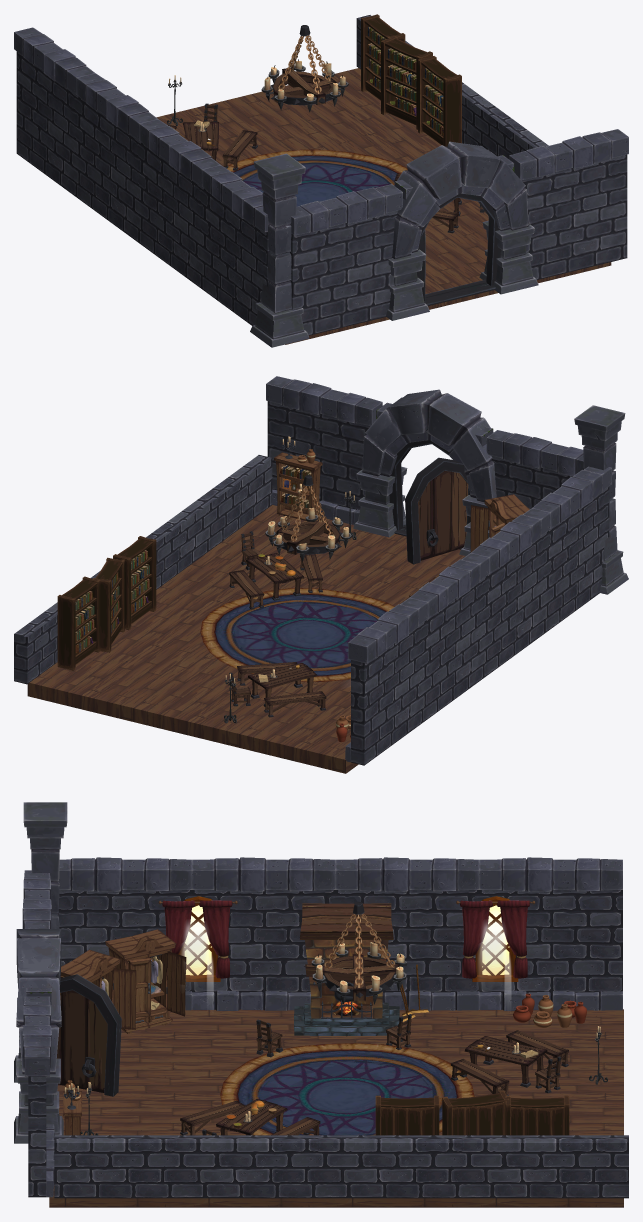
The model's file is ServantsRoom_Assets.gltf.
3 renders of one model, top to bottom at view 1: azimuth 30°, elevation 25°; view 2: azimuth 150°, elevation 25°; view 3: azimuth 270°, elevation 25°, orthographic. The views are drawn at different scales.
Visible parts, largest first — view 1: P_MOD_Wall_01_E_straight_med (×6), P_MOD_WallCover_01_E_straight (1) (×6), P_MOD_Gateway_Arc_01, P_PROP_bookshelf_dungeon_02 (×3), P_PROP_rug_interior_07, P_MOD_Floor_02_E_straight_med (4), P_MOD_Floor_02_E_straight_med, P_MOD_Column_01_large, P_PROP_chandelier_dungeon_01, P_MOD_Floor_02_E_straight_med (1), P_MOD_Column_01_base (×2), P_MOD_Floor_02_E_straight_med (7) (+10 smaller); view 2: P_MOD_Wall_01_E_straight_med (×6), P_MOD_WallCover_01_E_straight (1) (×6), P_PROP_rug_interior_07, P_MOD_Gateway_Arc_01, P_MOD_Floor_02_E_straight_med, P_MOD_Floor_02_E_straight_med (4), P_PROP_bookshelf_dungeon_02 (×3), P_MOD_Floor_02_E_straight_med (8), MOD_Gateway_Door_01_med_02_door, P_MOD_Floor_02_E_straight_med (7), P_MOD_Floor_02_E_straight_med (1), P_MOD_Floor_02_E_straight_med (2) (+22 smaller); view 3: P_MOD_Wall_01_E_straight_med (×5), P_MOD_WallCover_01_E_straight (1) (×6), P_PROP_rug_interior_07, P_MOD_Wall_01_E_straight_small (2), P_MOD_Wall_01_E_straight_small, P_MOD_Wall_01_E_straight_small (1), P_MOD_Wall_01_E_straight_small (3), P_PROP_fireplace_interior, P_PROP_bookshelf_dungeon_02 (×3), P_MOD_WallTrim_01_E_straight (1) (×4), MOD_Gateway_Door_01_med_02_door, P_MOD_Floor_02_E_straight_med (7) (+33 smaller).
Boxes of the visible parts, left/top/right/bottom form: P_MOD_Wall_01_E_straight_med (×6): left=16, top=51, right=627, bottom=335; P_MOD_WallCover_01_E_straight (1) (×6): left=14, top=27, right=628, bottom=235; P_MOD_Gateway_Arc_01: left=392, top=141, right=528, bottom=258; P_PROP_bookshelf_dungeon_02 (×3): left=361, top=14, right=461, bottom=146; P_PROP_rug_interior_07: left=227, top=149, right=407, bottom=206; P_MOD_Floor_02_E_straight_med (4): left=156, top=94, right=313, bottom=163; P_MOD_Floor_02_E_straight_med: left=252, top=68, right=400, bottom=139; P_MOD_Column_01_large: left=261, top=181, right=298, bottom=313; P_PROP_chandelier_dungeon_01: left=261, top=25, right=348, bottom=112; P_MOD_Floor_02_E_straight_med (1): left=315, top=119, right=441, bottom=167; P_MOD_Column_01_base (×2): left=250, top=278, right=429, bottom=347; P_MOD_Floor_02_E_straight_med (7): left=425, top=232, right=497, bottom=309; P_MOD_Wall_01_E_straight_med (×6): left=267, top=401, right=609, bottom=765; P_MOD_WallCover_01_E_straight (1) (×6): left=266, top=376, right=611, bottom=663; P_PROP_rug_interior_07: left=200, top=588, right=394, bottom=681; P_MOD_Gateway_Arc_01: left=362, top=389, right=496, bottom=502; P_MOD_Floor_02_E_straight_med: left=27, top=643, right=194, bottom=721; P_MOD_Floor_02_E_straight_med (4): left=133, top=663, right=300, bottom=747; P_PROP_bookshelf_dungeon_02 (×3): left=57, top=536, right=156, bottom=670; P_MOD_Floor_02_E_straight_med (8): left=240, top=689, right=358, bottom=773; MOD_Gateway_Door_01_med_02_door: left=405, top=457, right=468, bottom=564; P_MOD_Floor_02_E_straight_med (7): left=320, top=533, right=465, bottom=595; P_MOD_Floor_02_E_straight_med (1): left=112, top=594, right=215, bottom=663; P_MOD_Floor_02_E_straight_med (2): left=156, top=548, right=308, bottom=608; P_MOD_Wall_01_E_straight_med (×5): left=28, top=889, right=622, bottom=1197; P_MOD_WallCover_01_E_straight (1) (×6): left=22, top=857, right=622, bottom=1076; P_PROP_rug_interior_07: left=220, top=1043, right=474, bottom=1135; P_MOD_Wall_01_E_straight_small (2): left=341, top=1135, right=485, bottom=1198; P_MOD_Wall_01_E_straight_small: left=54, top=1135, right=197, bottom=1198; P_MOD_Wall_01_E_straight_small (1): left=198, top=1135, right=341, bottom=1198; P_MOD_Wall_01_E_straight_small (3): left=485, top=1135, right=628, bottom=1198; P_PROP_fireplace_interior: left=294, top=903, right=399, bottom=1036; P_PROP_bookshelf_dungeon_02 (×3): left=375, top=1090, right=569, bottom=1135; P_MOD_WallTrim_01_E_straight (1) (×4): left=46, top=990, right=622, bottom=1197; MOD_Gateway_Door_01_med_02_door: left=56, top=974, right=121, bottom=1096; P_MOD_Floor_02_E_straight_med (7): left=57, top=1070, right=192, bottom=1130.
Bounding box in the file's own units: 13.41 × 6.46 × 17.13.
Materials: 20 (20 with a texture image).
